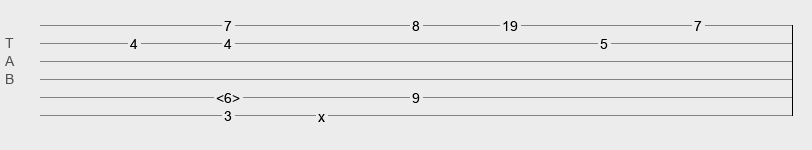19: (502, 18, 518, 28)
3: (224, 108, 232, 118)
4: (130, 36, 138, 46), (224, 36, 232, 46)
5: (600, 36, 608, 46)
7: (224, 18, 232, 28), (694, 18, 702, 28)
8: (412, 18, 420, 28)
9: (412, 90, 420, 100)
harmonic: (216, 90, 240, 100)
x: (318, 109, 325, 117)
